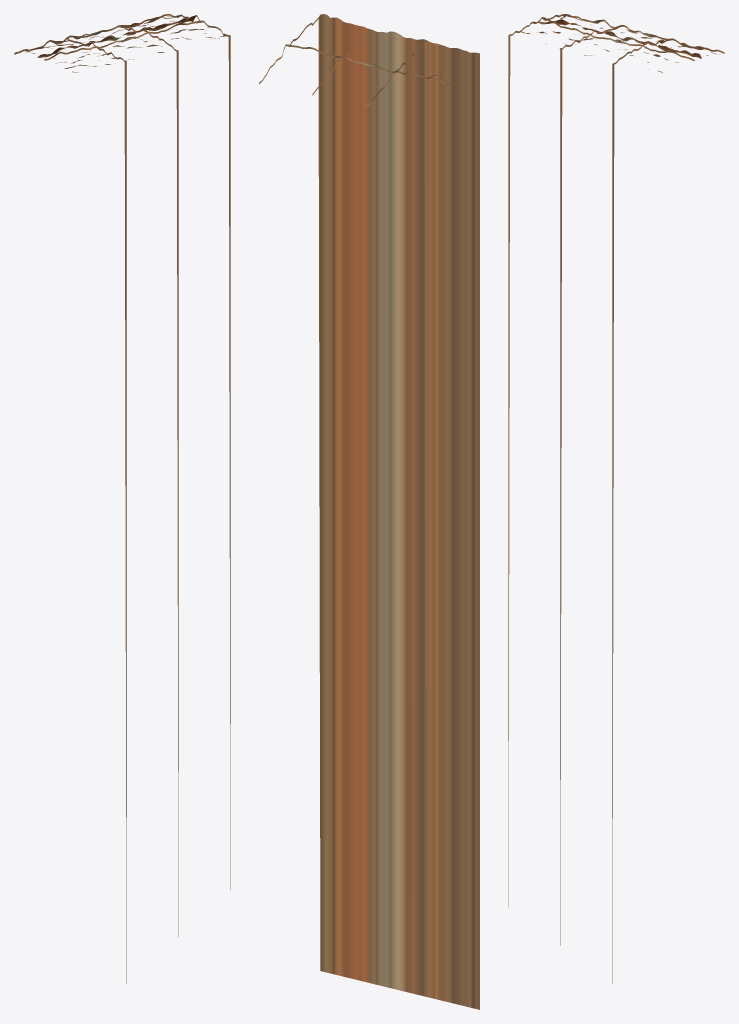
The model's file is terrain-133.glb.
The picture shows the model from 3 angles, left to right: view 1: azimuth 30°, elevation 25°; view 2: azimuth 150°, elevation 25°; view 3: azimuth 330°, elevation 25°; orthographic projection. The views are drawn at different scales.
Parts seen in each view (by area): view 1: terrain-133; view 2: terrain-133; view 3: terrain-133.
Boxes of the visible parts, <box> form: terrain-133: <box>14,14,230,983</box>; terrain-133: <box>259,14,479,1009</box>; terrain-133: <box>508,14,724,983</box>.
Bounding box in the file's own units: 384 × 2203 × 256.
